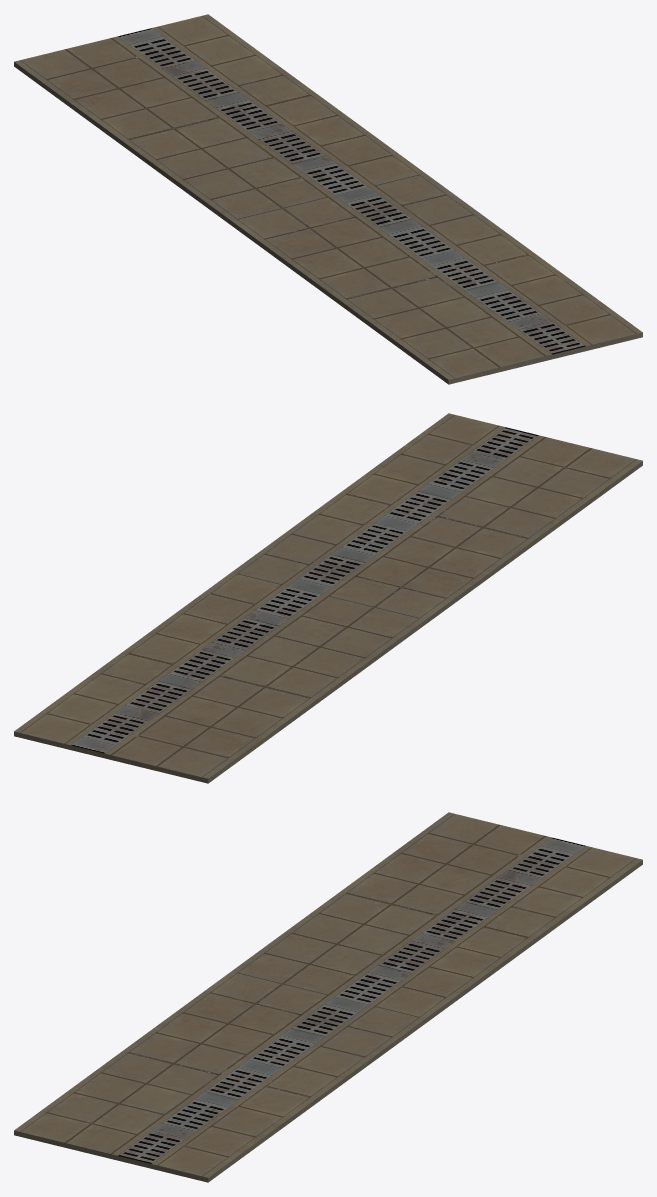
The model's file is SM_Sidewalk_05.fbx.
The picture shows the model from 3 angles, top to bottom: view 1: azimuth 30°, elevation 25°; view 2: azimuth 150°, elevation 25°; view 3: azimuth 330°, elevation 25°; orthographic projection.
Parts seen in each view (by area): view 1: SM_Sidewalk_05; view 2: SM_Sidewalk_05; view 3: SM_Sidewalk_05.
Boxes of the visible parts, x1=… form: SM_Sidewalk_05: x1=14, y1=14, x2=642, y2=384; SM_Sidewalk_05: x1=14, y1=413, x2=642, y2=783; SM_Sidewalk_05: x1=14, y1=812, x2=642, y2=1182.
Size of the model in its own units: 142 by 550 by 3.35.
1 material, 1 textured.
